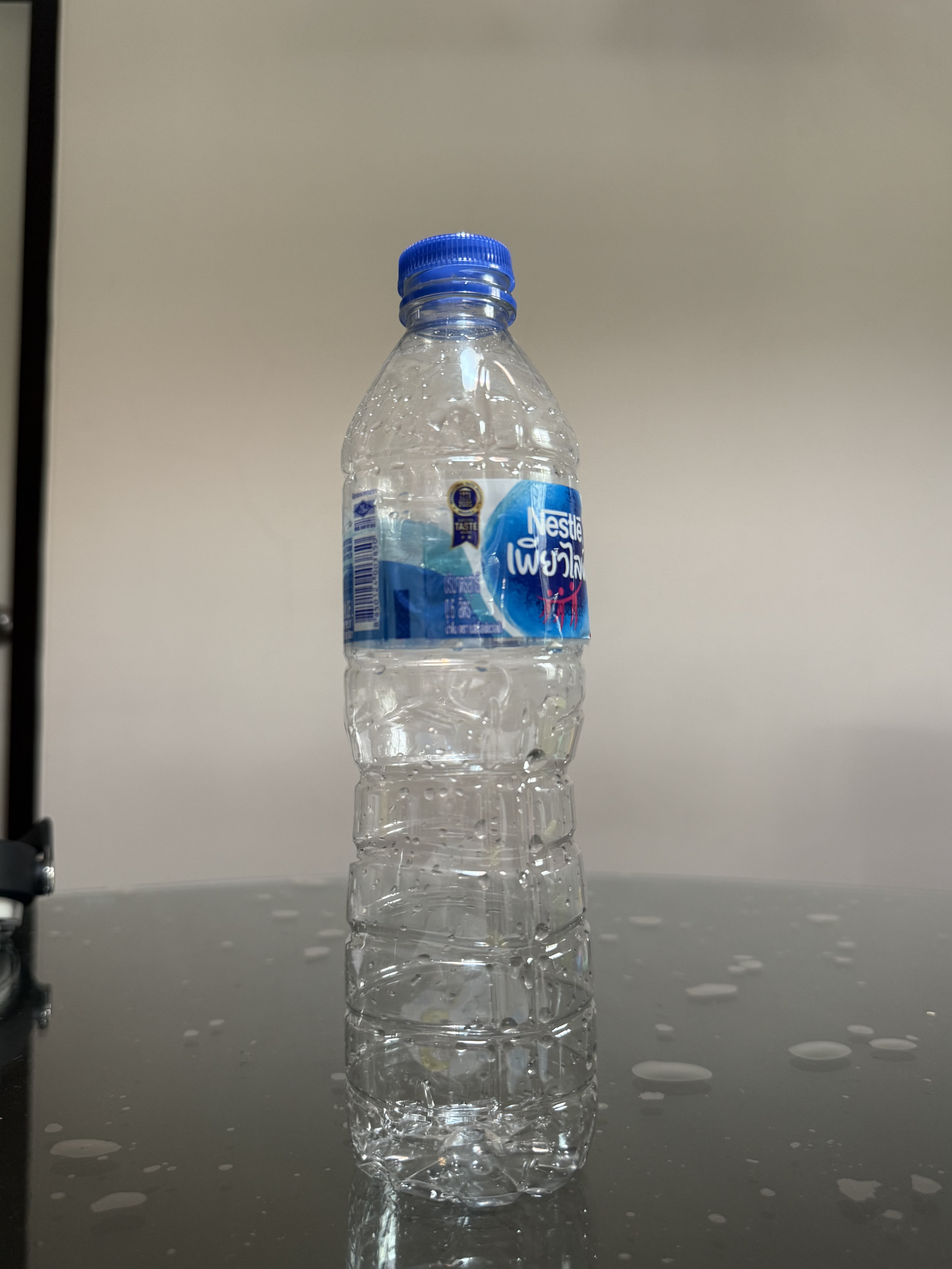half_cap: (394, 228, 519, 327)
